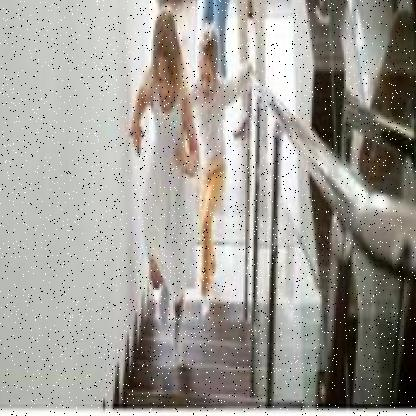stair_up: (109, 272, 262, 408)
